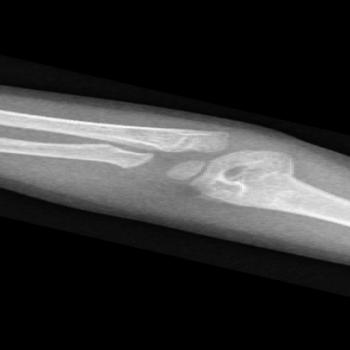Fracture: (110, 152, 221, 182)
